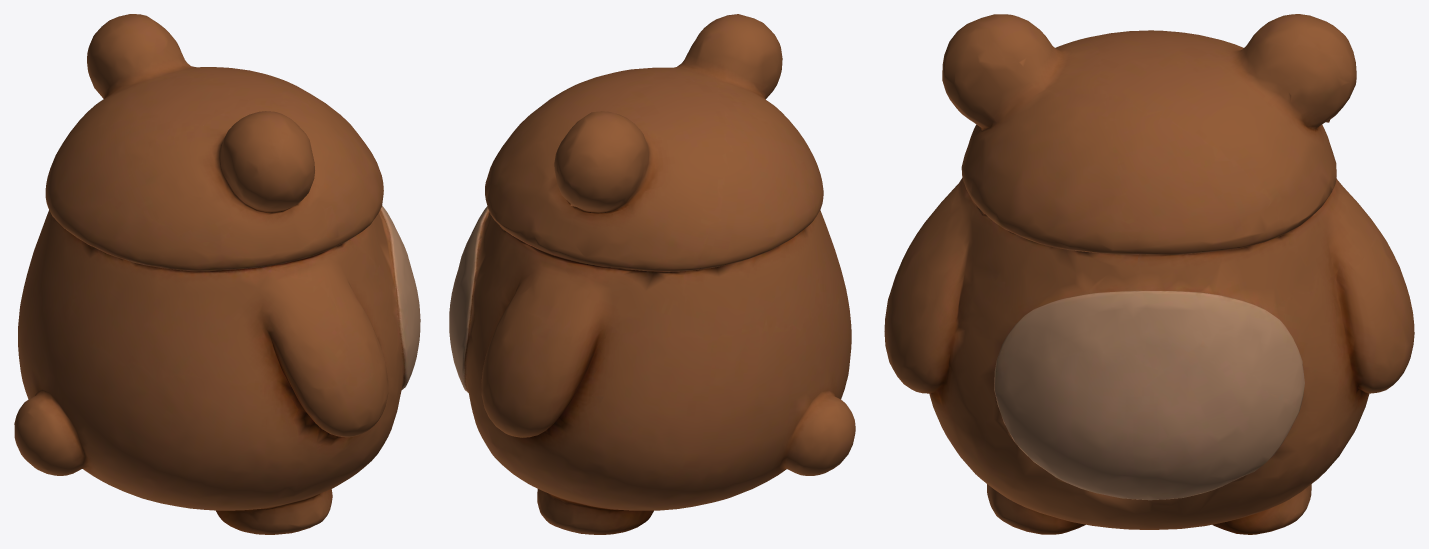
Rendered from body.glb.
3 renders of one model, left to right at view 1: azimuth 30°, elevation 25°; view 2: azimuth 150°, elevation 25°; view 3: azimuth 270°, elevation 25°, orthographic. The views are drawn at different scales.
Parts seen in each view (by area): view 1: tripo_node_79ef1c05-c267-411c-878a-8a6ce88bad10; view 2: tripo_node_79ef1c05-c267-411c-878a-8a6ce88bad10; view 3: tripo_node_79ef1c05-c267-411c-878a-8a6ce88bad10.
Boxes of the visible parts, x1,y1,x2,y2 form: tripo_node_79ef1c05-c267-411c-878a-8a6ce88bad10: (14, 14, 420, 534); tripo_node_79ef1c05-c267-411c-878a-8a6ce88bad10: (449, 14, 855, 534); tripo_node_79ef1c05-c267-411c-878a-8a6ce88bad10: (884, 14, 1414, 534).
Size of the model in its own units: 0.9198 by 0.9906 by 1.
1 material, 1 textured.
